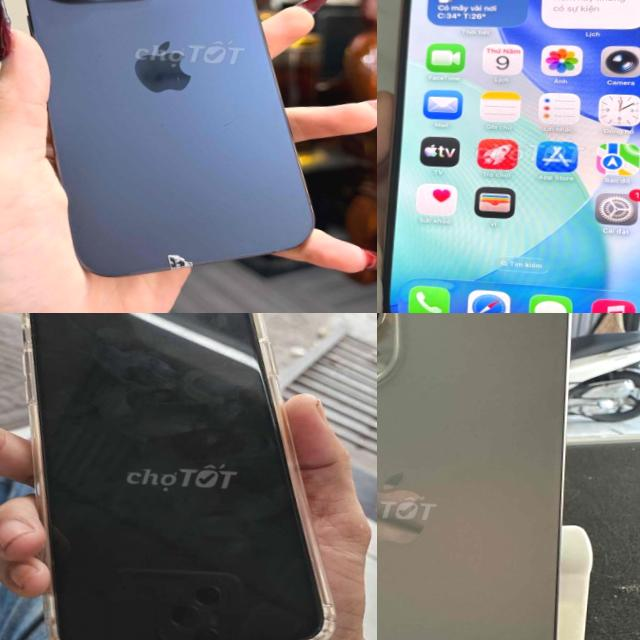gen_15: (0, 0, 352, 293), (377, 0, 640, 313), (377, 313, 578, 640)
gen_x_xs: (0, 313, 369, 640)
